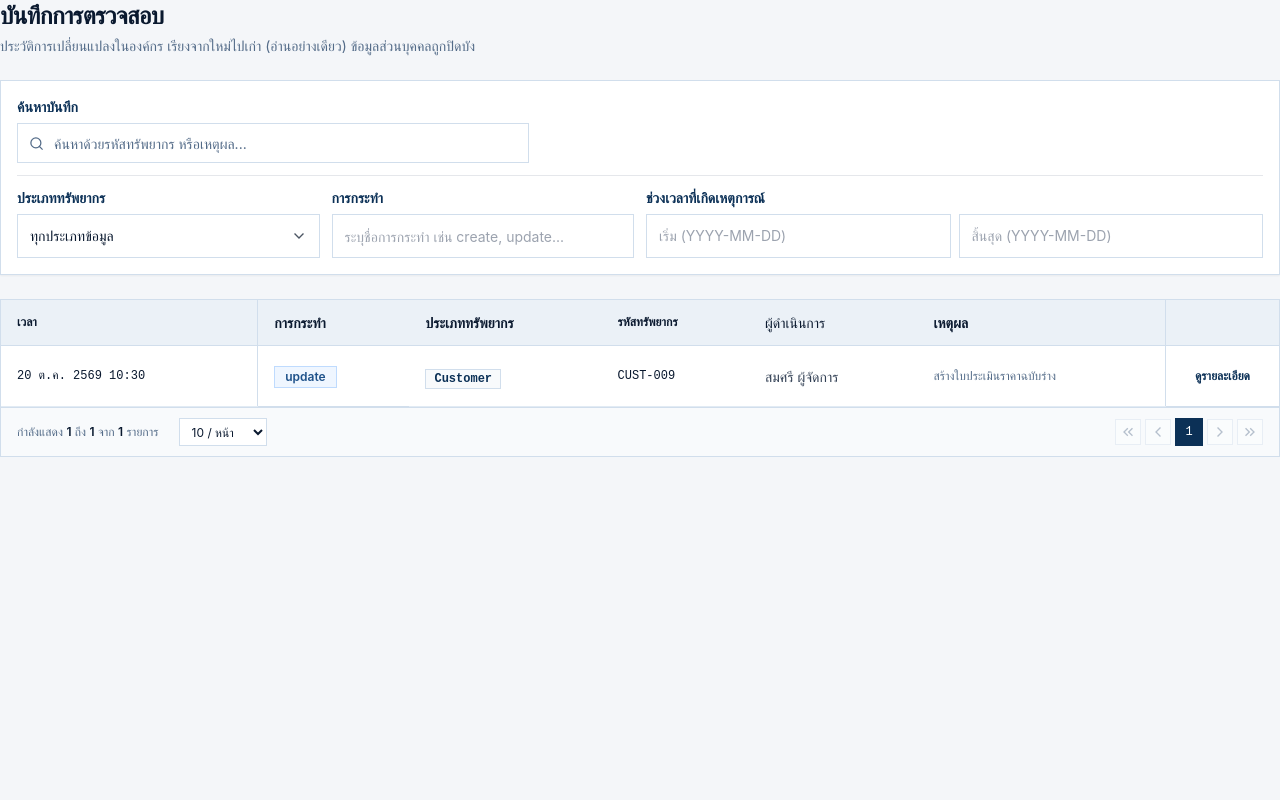
AuditEventList (G-21 Audit Log) › opens forensic inspector drawer when inspect button is clicked
This screenshot has width=1280, height=800.
Click the button "ดูรายละเอียด".
click(1222, 376)  # box [1182,358,1263,394]
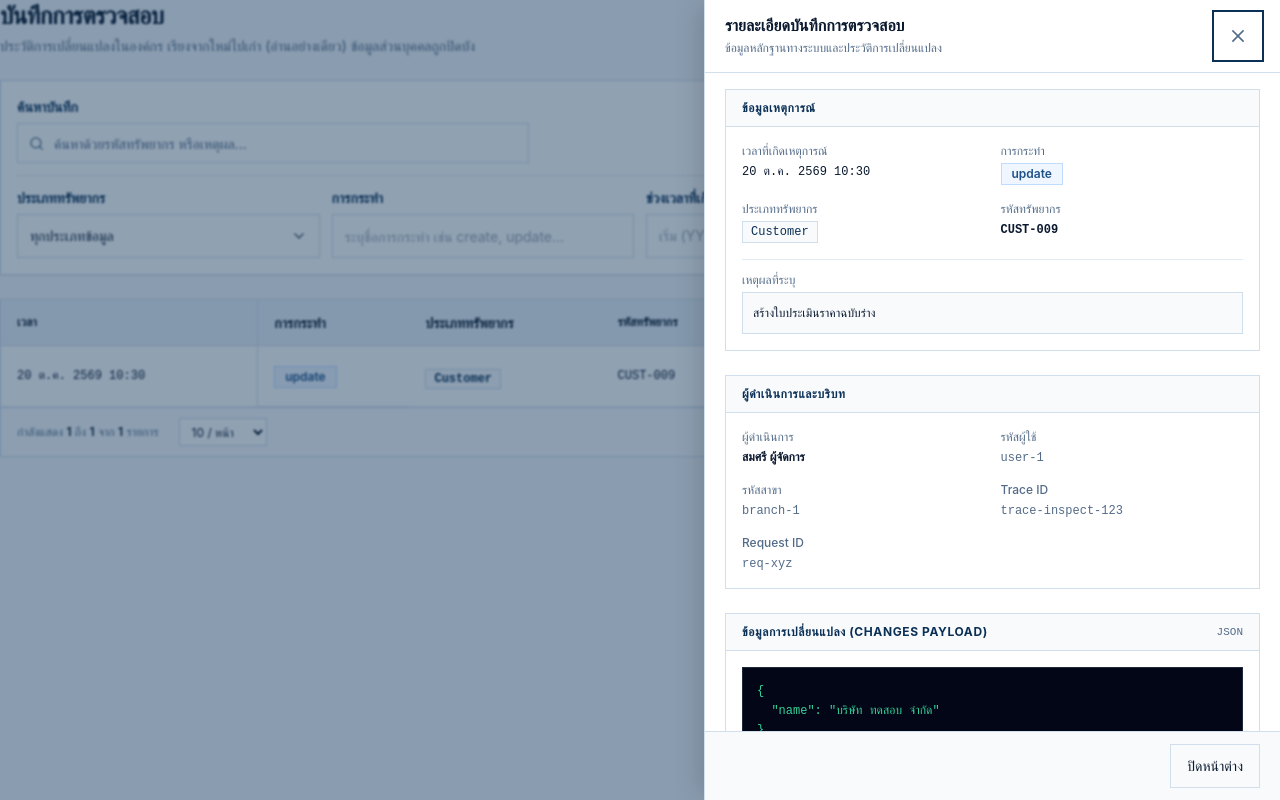
Expected: the heading "รายละเอียดบันทึกการตรวจสอบ" is shown, [725,15,904,35]
Expected: the text "trace-inspect-123" is shown, [1000,504,1123,518]
Expected: the text "{ \"name\": \"บริษัท ทดสอบ จำกัด\" }" is shown, [742,667,1243,731]
